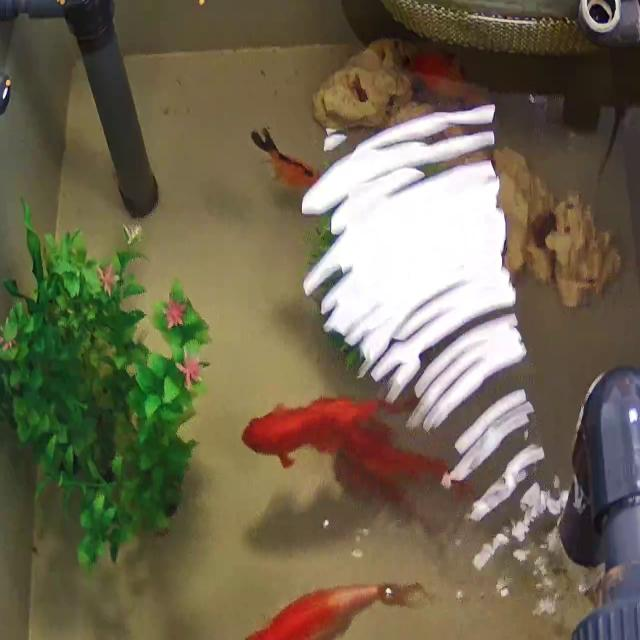fish: (243, 396, 381, 470), (243, 579, 405, 640), (332, 432, 444, 517), (251, 124, 317, 194), (408, 52, 493, 105)
